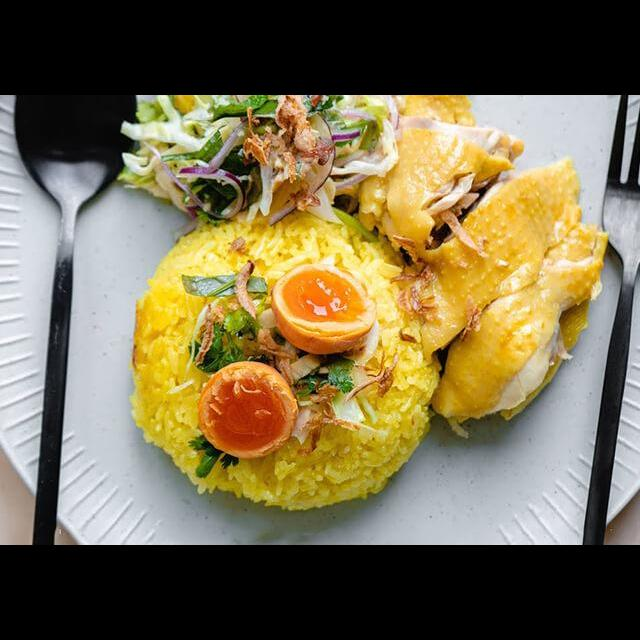com: (120, 195, 449, 517)
com ga: (100, 123, 601, 545)
rau ram: (149, 126, 259, 232), (175, 269, 274, 371), (213, 96, 350, 135)
thit ga: (425, 220, 613, 445), (408, 153, 586, 368), (349, 96, 527, 268)
trung: (192, 355, 298, 461), (266, 264, 377, 357)
